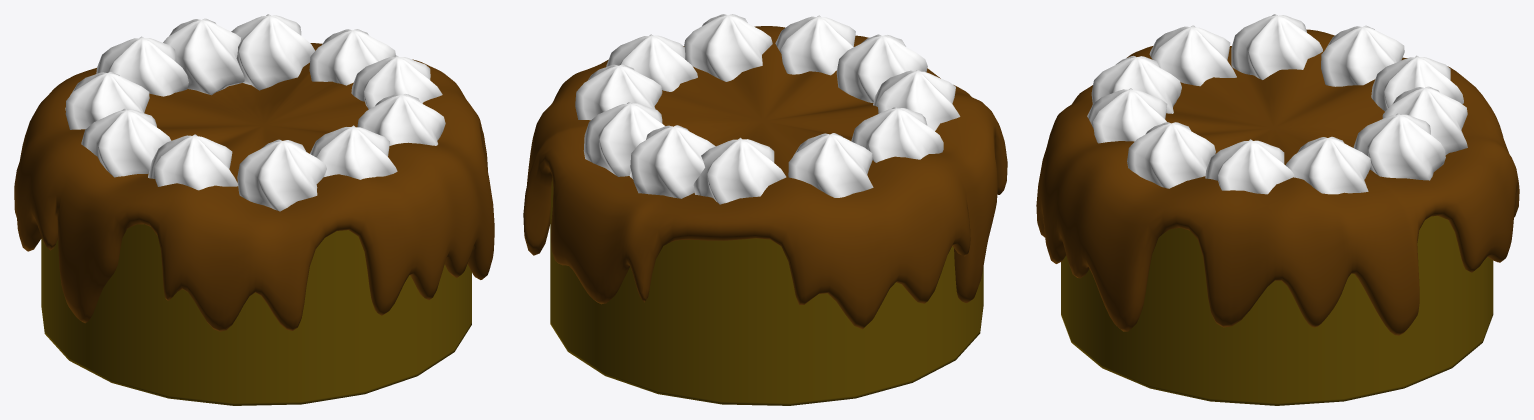
File: Cake01.fbx
3 renders of one model, left to right at view 1: azimuth 30°, elevation 25°; view 2: azimuth 150°, elevation 25°; view 3: azimuth 270°, elevation 25°, orthographic.
Visible parts, largest first — view 1: Cake01; view 2: Cake01; view 3: Cake01.
Part boxes in pixels (<box>): Cake01: <box>14,14,494,405</box>; Cake01: <box>523,14,1007,405</box>; Cake01: <box>1036,14,1519,405</box>.
Size of the model in its own units: 910 by 491 by 912.
